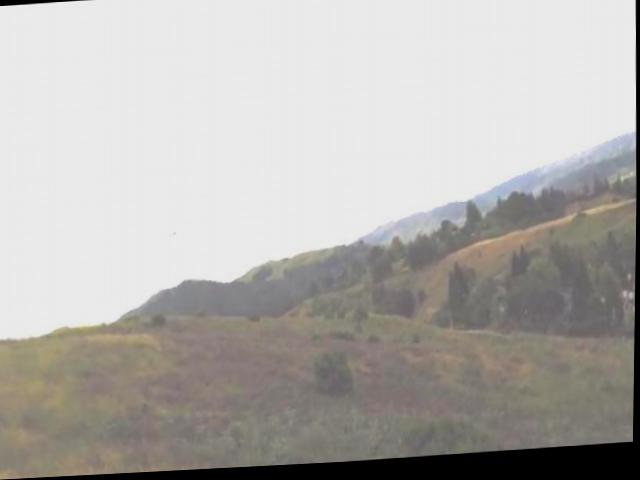iha: (161, 226, 193, 242)
